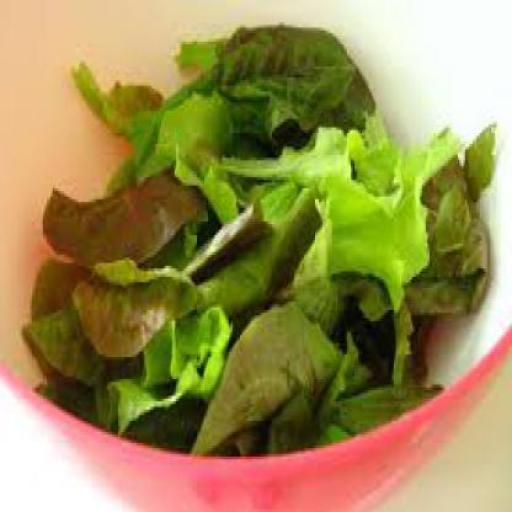biodegradable: (24, 23, 499, 451), (297, 114, 459, 318), (180, 19, 378, 150), (192, 291, 346, 451), (323, 160, 431, 377), (399, 111, 503, 315), (92, 304, 237, 432), (47, 166, 204, 275), (321, 324, 446, 440), (133, 63, 258, 172), (72, 257, 200, 357), (32, 371, 204, 443), (281, 210, 355, 328), (73, 56, 169, 130), (20, 304, 109, 378), (26, 254, 90, 316), (268, 390, 329, 452)
